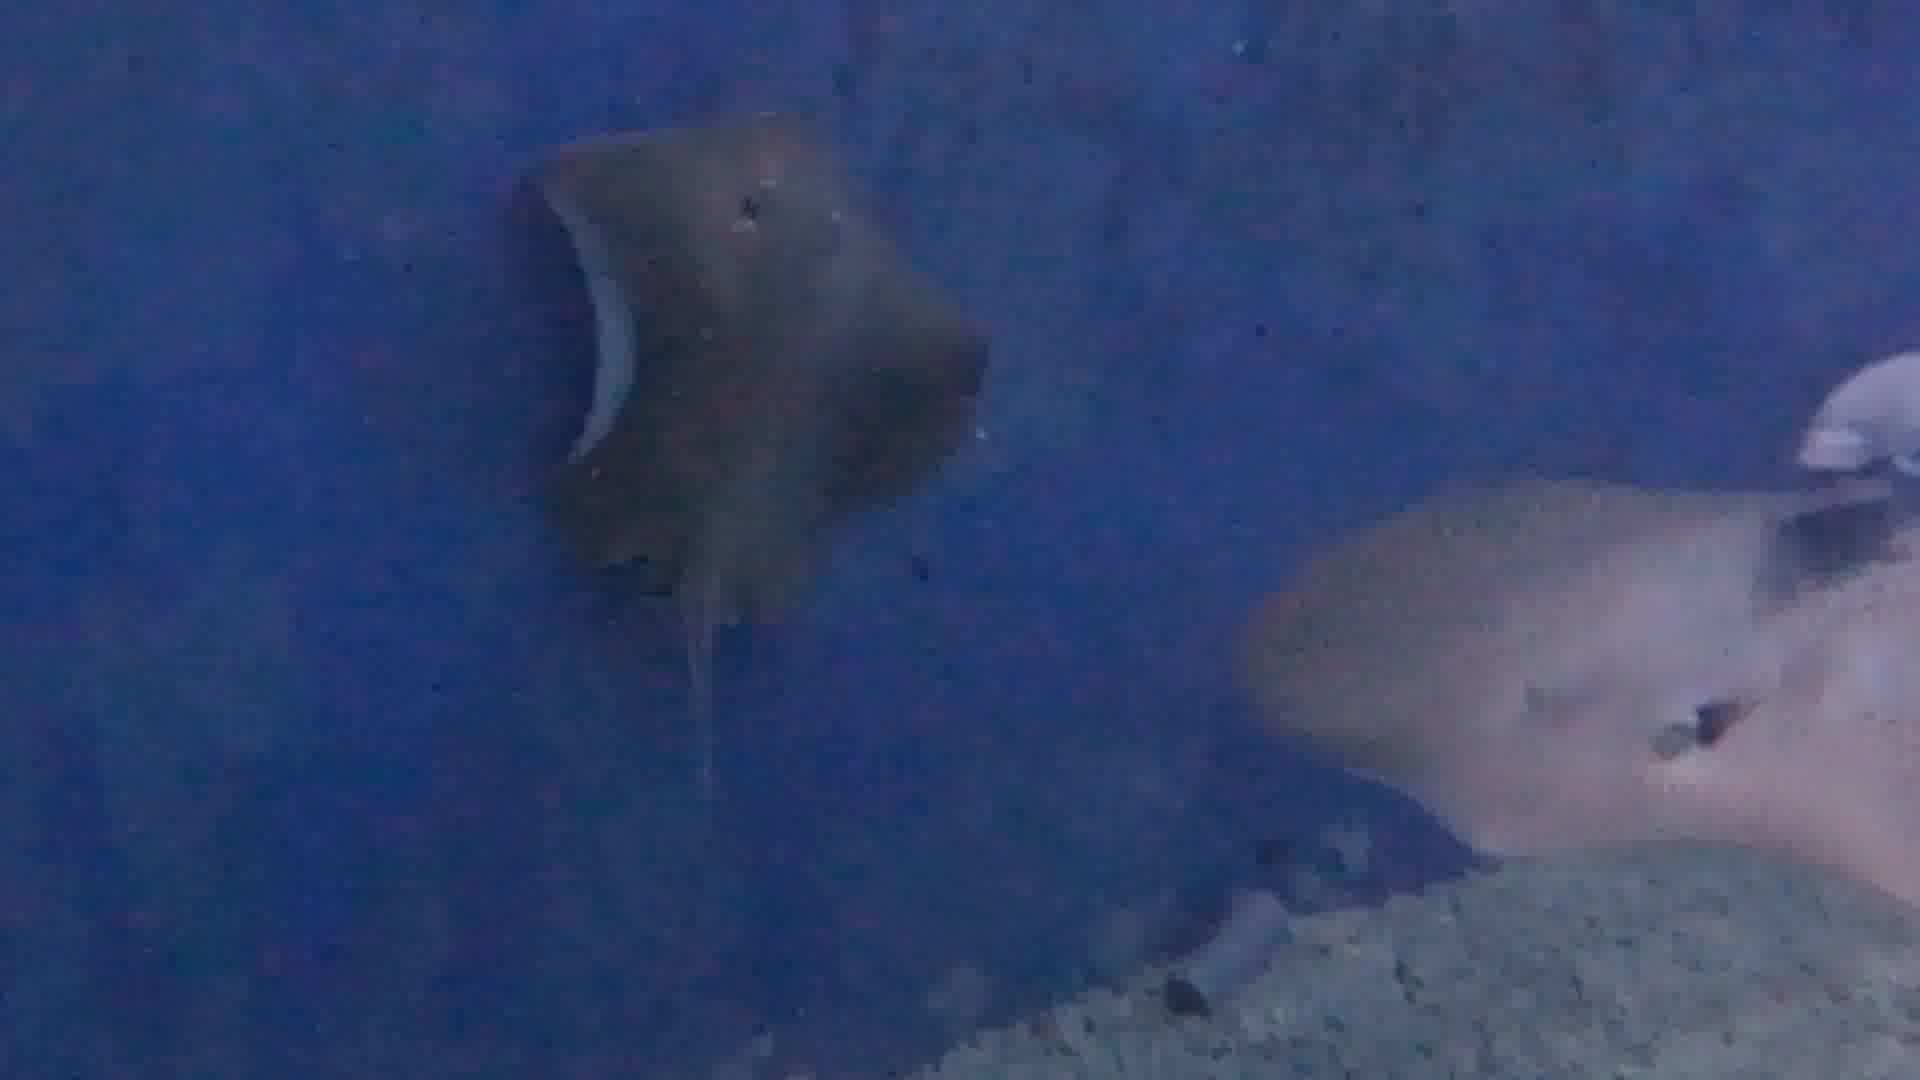Himantura gerrardi: (500, 102, 990, 843)
